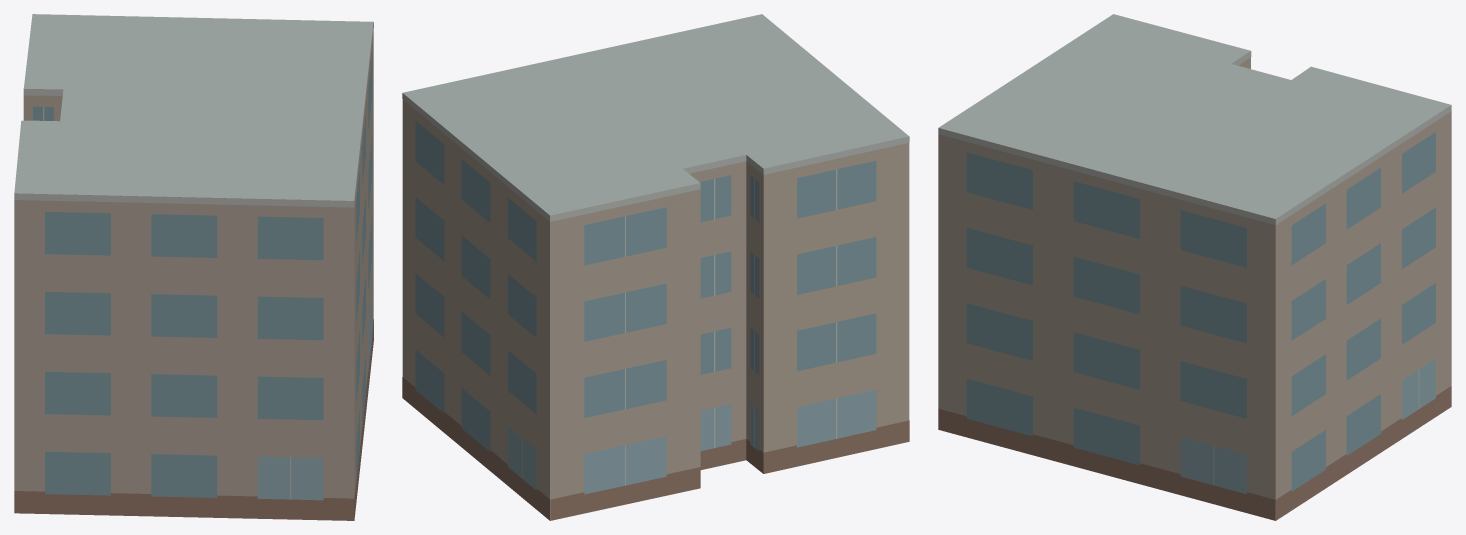
File: survey-upis-32542740.glb
3 renders of one model, left to right at view 1: azimuth 30°, elevation 25°; view 2: azimuth 150°, elevation 25°; view 3: azimuth 270°, elevation 25°, orthographic. The views are drawn at different scales.
Parts seen in each view (by area): view 1: survey-upis-32542740.tmp; view 2: survey-upis-32542740.tmp; view 3: survey-upis-32542740.tmp.
Boxes of the visible parts, <box> form: survey-upis-32542740.tmp: <box>14,14,373,520</box>; survey-upis-32542740.tmp: <box>402,14,909,520</box>; survey-upis-32542740.tmp: <box>938,14,1451,520</box>.
Bounding box in the file's own units: 17.27 × 11.85 × 18.27.
